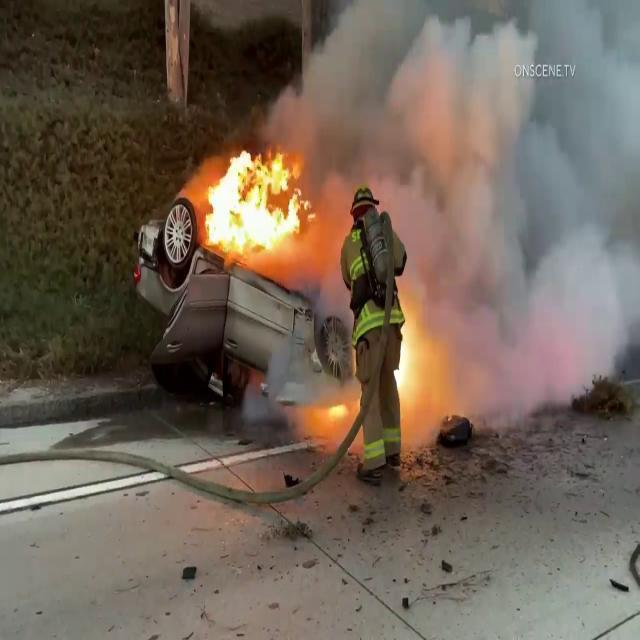Fire: (200, 142, 310, 258)
Smoke: (270, 1, 640, 426)
